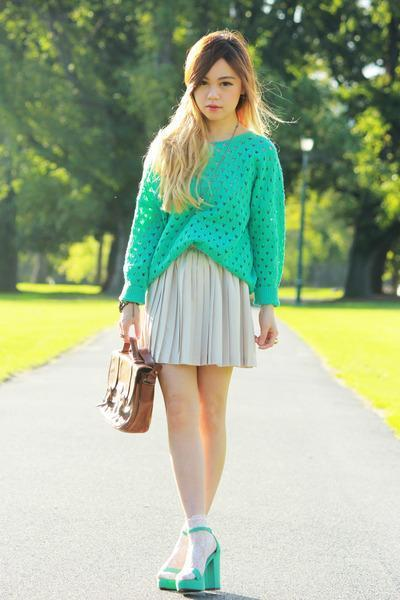bag: (96, 331, 166, 434)
jacket: (118, 132, 284, 306)
shoe: (159, 525, 219, 599)
skirt: (145, 242, 281, 368)
